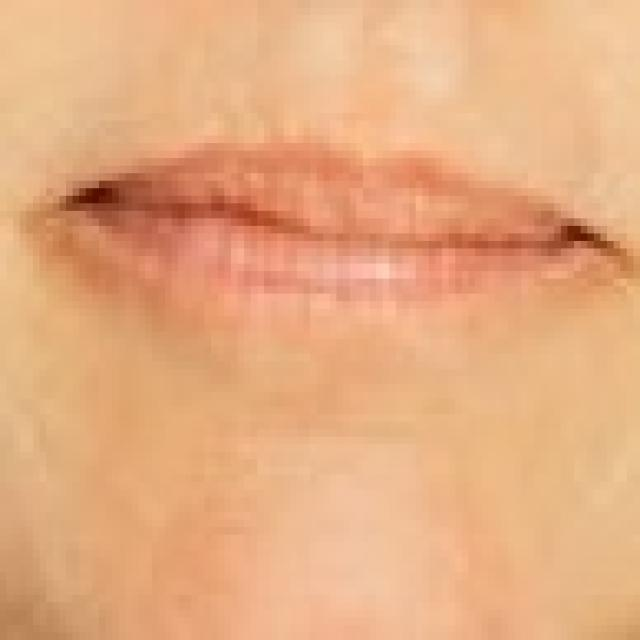closed-mouth: (32, 120, 634, 308)
